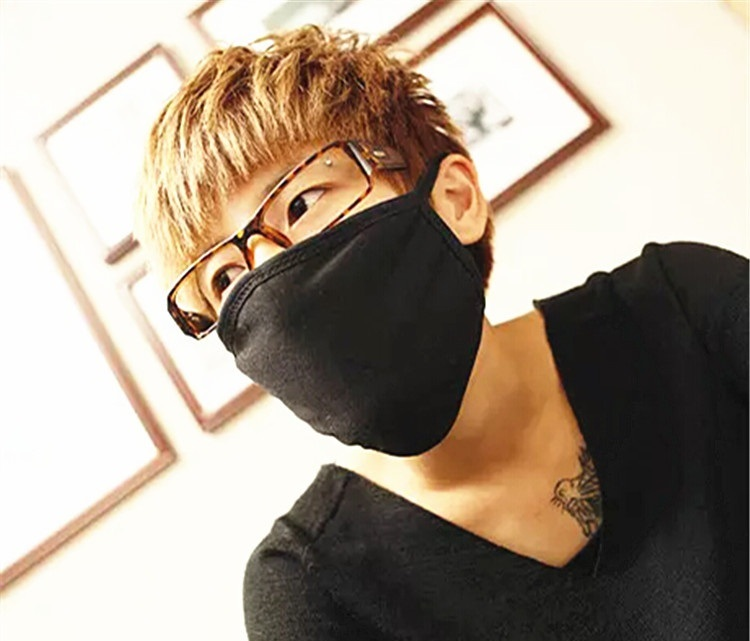face_mask: (206, 106, 458, 455)
